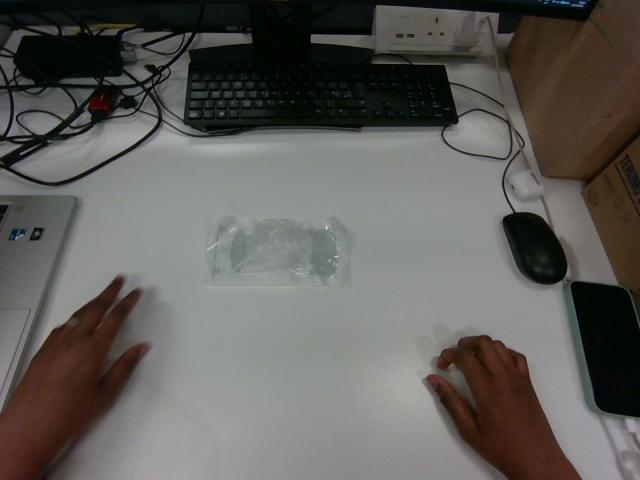gallipot: (206, 216, 348, 286)
